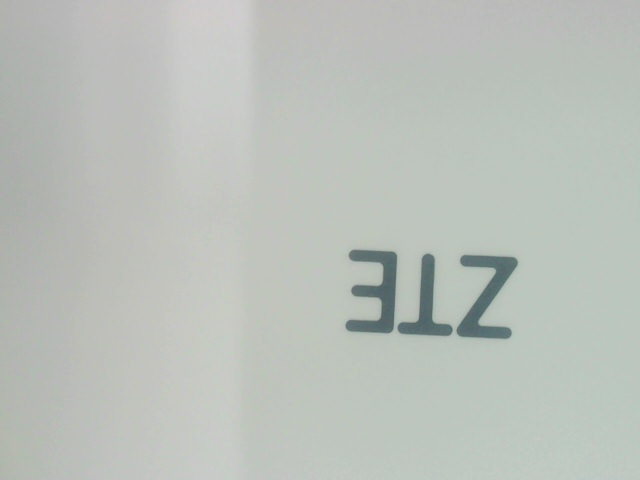AN_ZTELarge: (324, 238, 530, 352)
